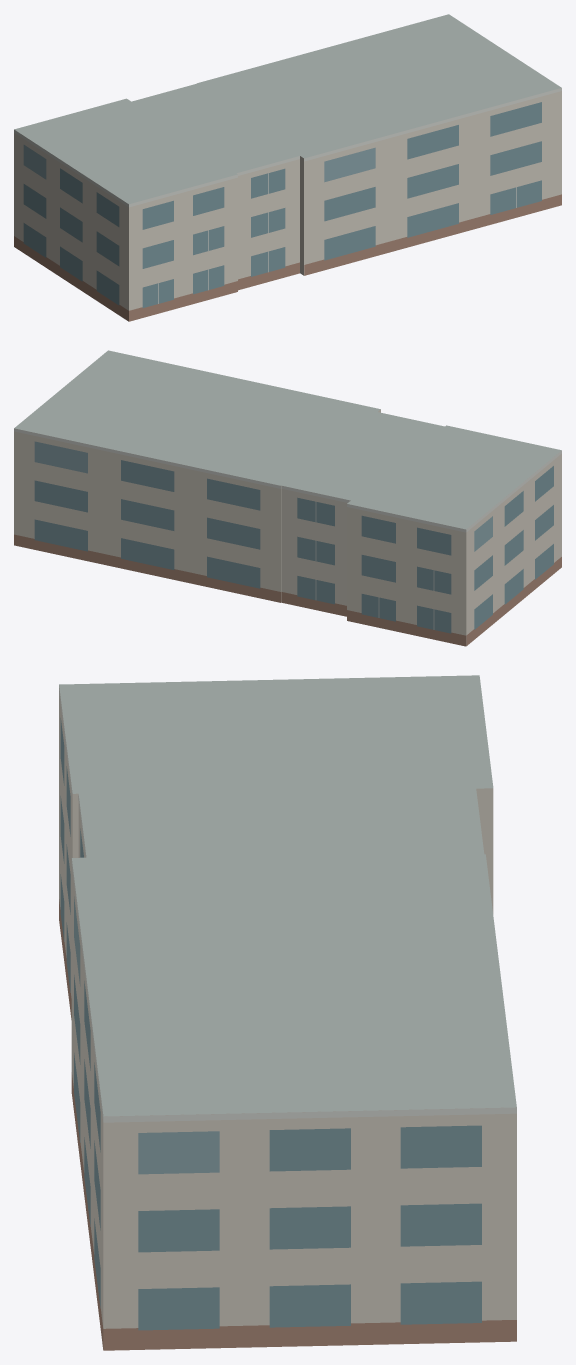
The model's file is survey-upis-32837371.glb.
3 renders of one model, top to bottom at view 1: azimuth 30°, elevation 25°; view 2: azimuth 150°, elevation 25°; view 3: azimuth 270°, elevation 25°, orthographic. The views are drawn at different scales.
Parts seen in each view (by area): view 1: survey-upis-32837371.tmp; view 2: survey-upis-32837371.tmp; view 3: survey-upis-32837371.tmp.
Part boxes in pixels (x1,y1,x2,y2): survey-upis-32837371.tmp: (14, 14, 561, 321); survey-upis-32837371.tmp: (14, 350, 561, 646); survey-upis-32837371.tmp: (59, 675, 516, 1350).
Size of the model in its own units: 36.98 by 9.15 by 16.23.
